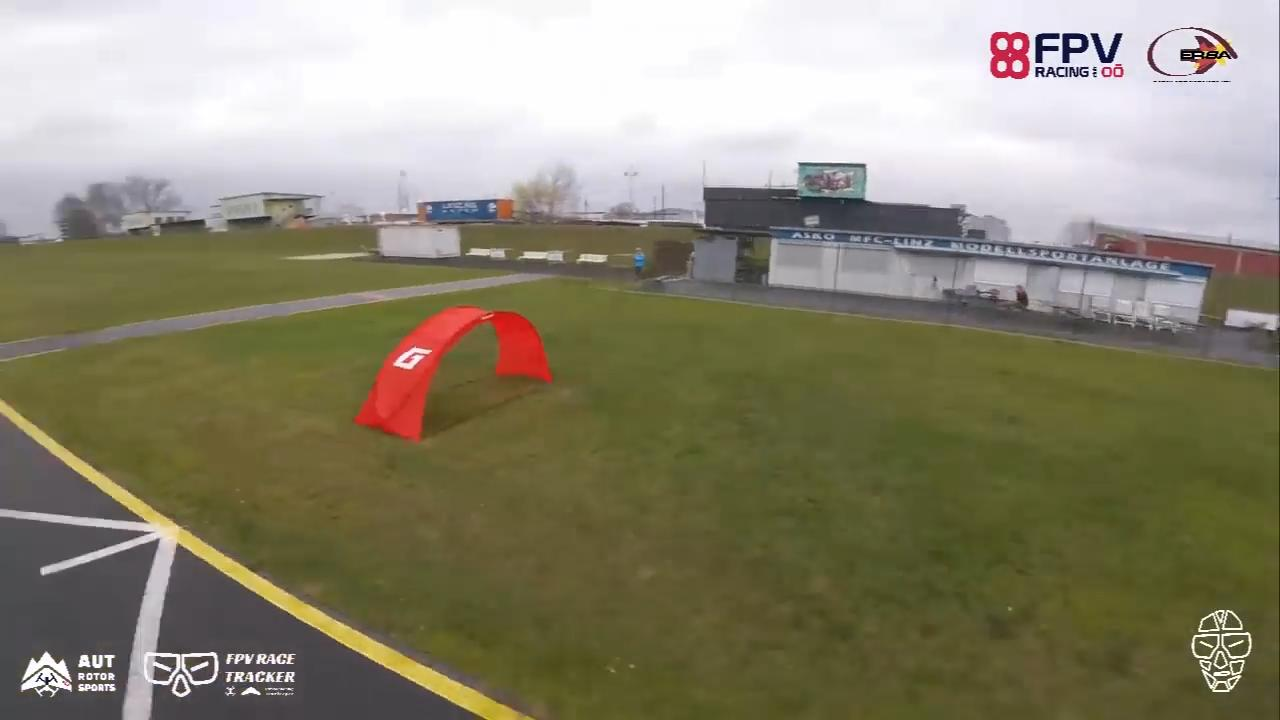gate: (352, 306, 557, 443)
